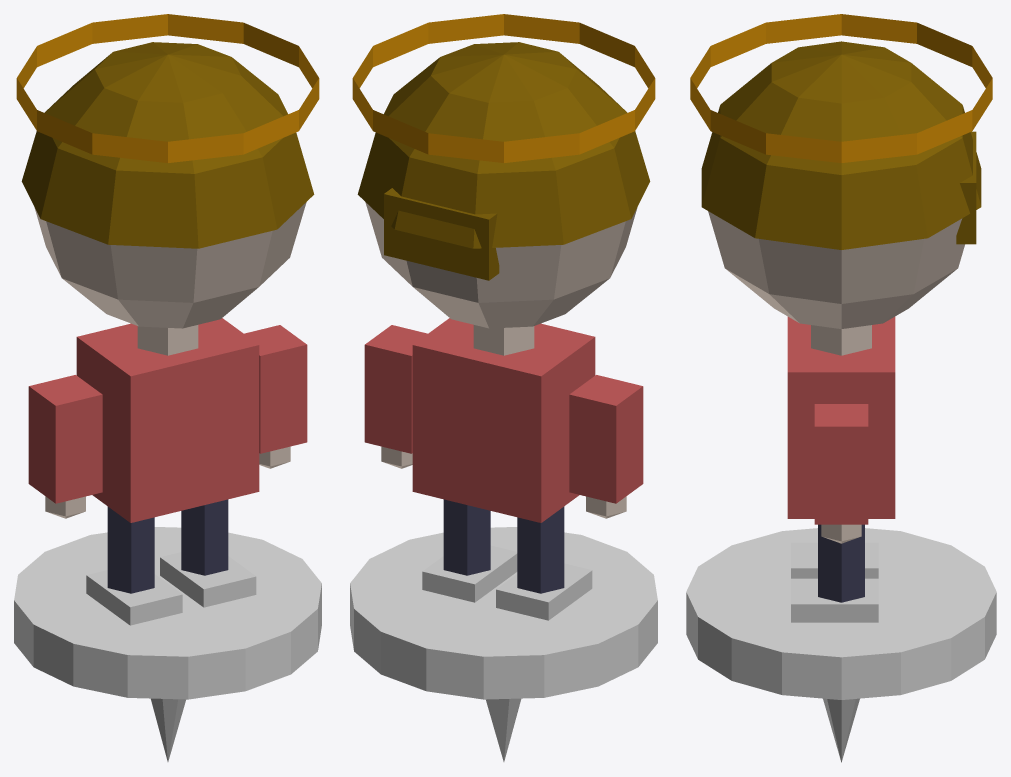
The model's file is chibi_active.glb.
3 views of the same model, side by side, from view 1: azimuth 30°, elevation 25°; view 2: azimuth 150°, elevation 25°; view 3: azimuth 270°, elevation 25° (orthographic).
Parts seen in each view (by area): view 1: chibi_active; view 2: chibi_active; view 3: chibi_active.
Boxes of the visible parts, box(x1,y1,x2,y2) form: chibi_active: box(14, 14, 321, 761); chibi_active: box(350, 14, 657, 761); chibi_active: box(686, 14, 996, 762).
Bounding box in the file's own units: 0.46 × 1.16 × 0.46.
